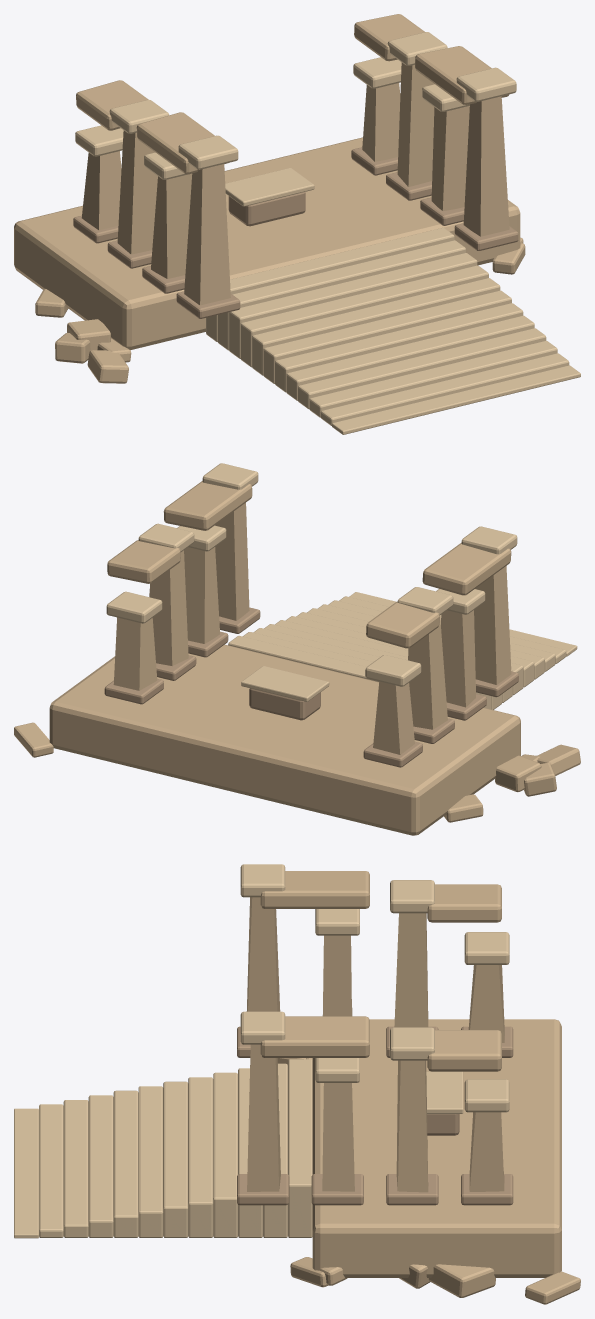
File: sandstone_shrine.glb
3 renders of one model, top to bottom at view 1: azimuth 30°, elevation 25°; view 2: azimuth 150°, elevation 25°; view 3: azimuth 270°, elevation 25°, orthographic. The views are drawn at different scales.
Parts seen in each view (by area): view 1: Half buried platform, Eroded pillar, Eroded pillar.004, Stair_09, Stair_08, Stair_07, Stair_06, Stair_05, Stair_04, Stair_10, Stair_03, Stair_02 (+36 smaller); view 2: Half buried platform, Eroded pillar, Eroded pillar.004, Eroded pillar.006, Eroded pillar.002, Eroded pillar.005, Eroded pillar.001, Fractured entablature, Fractured entablature.002, Eroded pillar.007, Eroded pillar.003, Fractured entablature.001 (+36 smaller); view 3: Half buried platform, Stair_11, Eroded pillar.004, Stair_07, Stair_08, Stair_06, Eroded pillar.006, Fractured entablature.002, Stair_05, Stair_04, Stair_03, Fractured entablature (+30 smaller).
Boxes of the visible parts, x1,y1,x2,y2 form: Half buried platform: [14, 137, 520, 350]; Eroded pillar: [184, 164, 230, 305]; Eroded pillar.004: [463, 96, 509, 236]; Stair_09: [229, 253, 477, 358]; Stair_08: [240, 265, 488, 367]; Stair_07: [252, 278, 500, 375]; Stair_06: [263, 290, 511, 383]; Stair_05: [275, 303, 523, 392]; Stair_04: [286, 315, 534, 400]; Stair_10: [217, 240, 465, 350]; Stair_03: [298, 328, 546, 408]; Stair_02: [309, 340, 557, 417]; Half buried platform: [49, 644, 520, 835]; Eroded pillar: [474, 566, 511, 684]; Eroded pillar.004: [215, 503, 249, 620]; Eroded pillar.006: [149, 550, 188, 665]; Eroded pillar.002: [408, 616, 447, 729]; Eroded pillar.005: [184, 547, 219, 643]; Eroded pillar.001: [441, 610, 475, 707]; Fractured entablature: [422, 542, 511, 595]; Fractured entablature.002: [163, 481, 252, 530]; Eroded pillar.007: [113, 617, 157, 690]; Eroded pillar.003: [373, 681, 414, 754]; Fractured entablature.001: [366, 602, 439, 648]; Half buried platform: [312, 1019, 561, 1277]; Stair_11: [288, 1059, 312, 1237]; Eroded pillar.004: [247, 1044, 280, 1191]; Stair_07: [188, 1077, 213, 1237]; Stair_08: [213, 1072, 237, 1237]; Stair_06: [163, 1081, 188, 1237]; Eroded pillar.006: [396, 1060, 428, 1192]; Fractured entablature.002: [260, 1016, 369, 1057]; Stair_05: [138, 1086, 163, 1237]; Stair_04: [113, 1090, 138, 1237]; Stair_03: [88, 1095, 113, 1237]; Fractured entablature: [260, 871, 369, 908].
Size of the model in its own units: 24.82 by 10.63 by 22.77.
